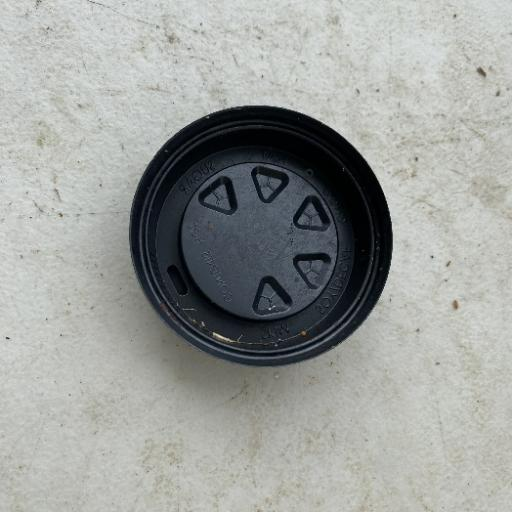Plastic: (126, 102, 396, 369)
